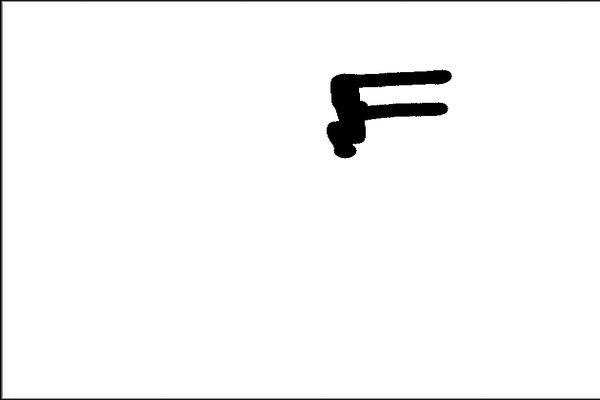F: (321, 64, 456, 161)
